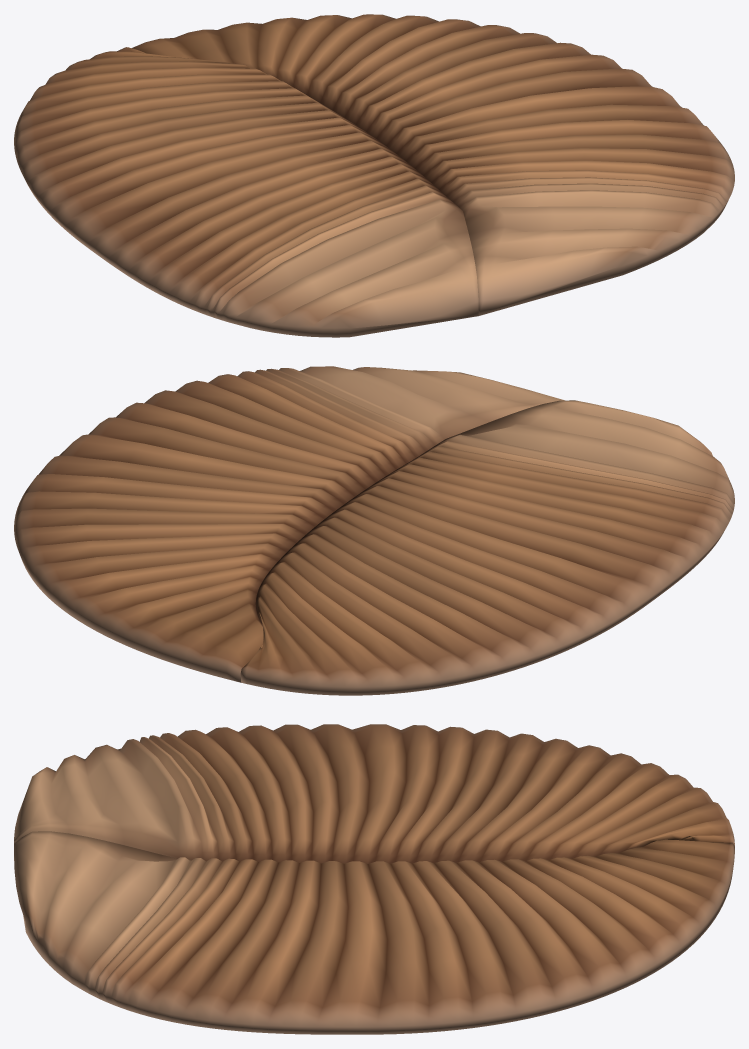
The model's file is Yorgia.fbx.
The picture shows the model from 3 angles, top to bottom: view 1: azimuth 30°, elevation 25°; view 2: azimuth 150°, elevation 25°; view 3: azimuth 270°, elevation 25°; orthographic projection. The views are drawn at different scales.
Visible parts, largest first — view 1: Yorgia; view 2: Yorgia; view 3: Yorgia.
Boxes of the visible parts, x1,y1,x2,y2 form: Yorgia: (14, 14, 734, 337); Yorgia: (14, 366, 734, 695); Yorgia: (14, 724, 734, 1034).
Size of the model in its own units: 1.24 by 0.0883 by 1.28.
